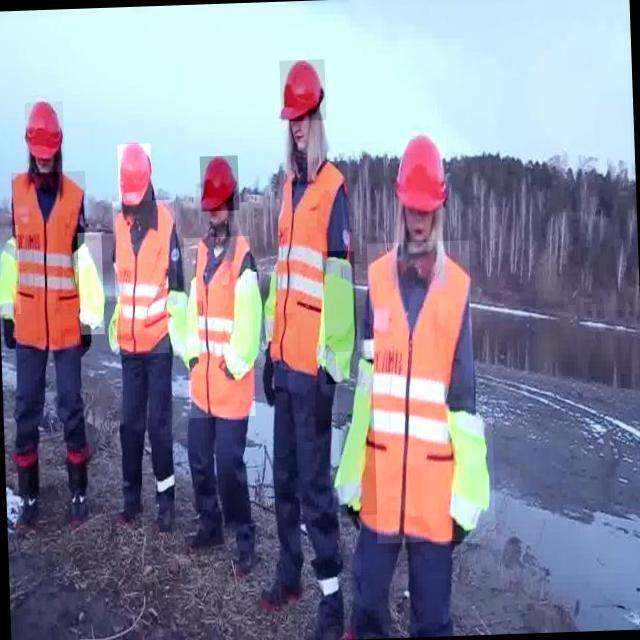Helmet: (396, 136, 448, 206), (279, 59, 326, 122), (25, 101, 65, 163), (117, 143, 152, 209), (199, 155, 239, 211)
Person: (365, 113, 504, 640), (257, 44, 363, 640), (0, 81, 107, 573), (184, 140, 261, 581), (109, 129, 182, 559)
Safety Boot: (254, 536, 308, 620), (298, 563, 351, 640), (3, 443, 44, 541), (184, 494, 226, 569), (61, 438, 92, 539), (229, 509, 265, 589), (110, 464, 148, 532), (149, 462, 187, 530)
Safety Vest: (367, 240, 479, 543), (263, 161, 354, 382), (11, 170, 91, 349), (183, 236, 255, 418), (112, 199, 179, 354), (335, 351, 377, 516), (449, 406, 496, 540), (322, 251, 358, 384), (228, 272, 264, 377), (77, 232, 105, 335), (0, 224, 20, 314), (260, 268, 279, 345), (167, 287, 188, 356), (187, 270, 201, 362), (107, 301, 121, 357)
